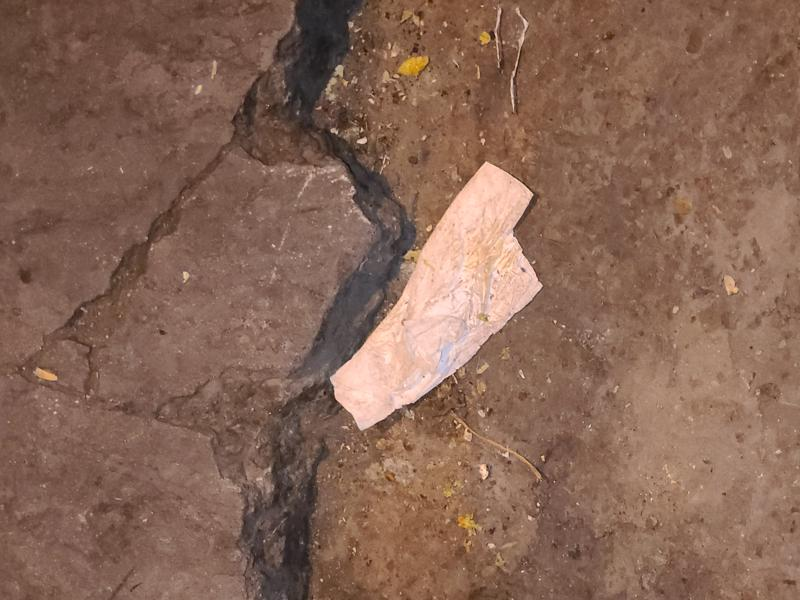papel: (328, 164, 543, 432)
